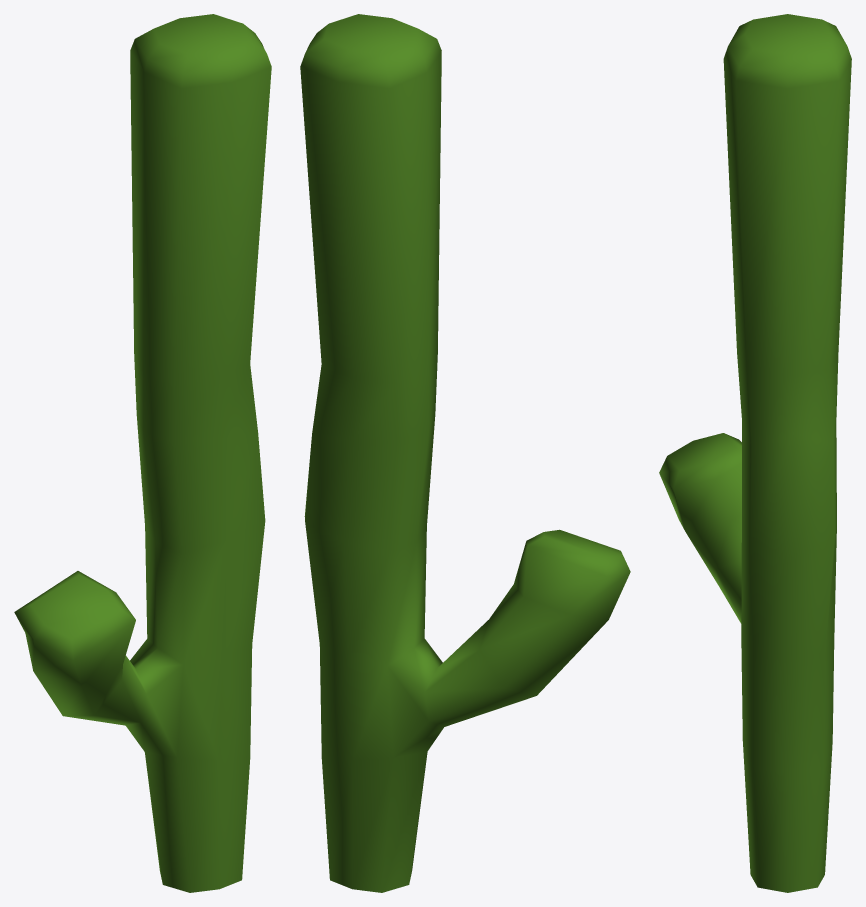
File: Cactus_35_A.fbx
3 renders of one model, left to right at view 1: azimuth 30°, elevation 25°; view 2: azimuth 150°, elevation 25°; view 3: azimuth 270°, elevation 25°, orthographic.
Parts seen in each view (by area): view 1: Cactus_35_A; view 2: Cactus_35_A; view 3: Cactus_35_A.
Part boxes in pixels (x1,y1,x2,y2): Cactus_35_A: (14, 14, 271, 892); Cactus_35_A: (300, 14, 630, 892); Cactus_35_A: (659, 14, 851, 892).
Size of the model in its own units: 76.58 by 222 by 46.23.
